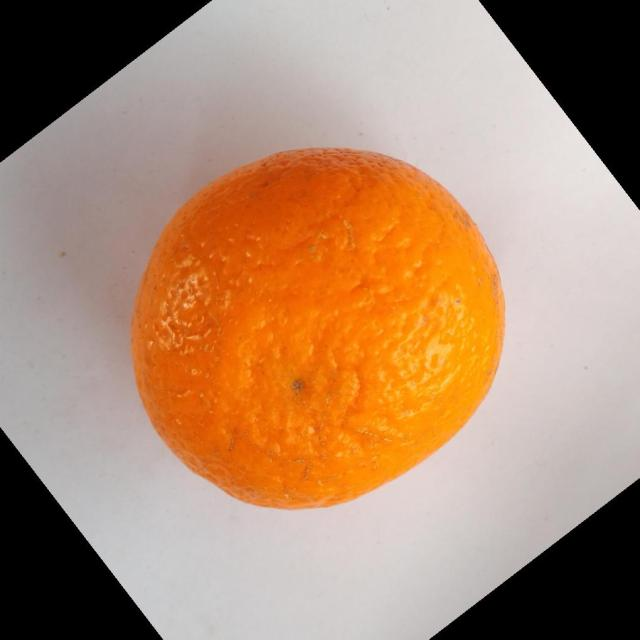fresh orange: (129, 145, 506, 510)
